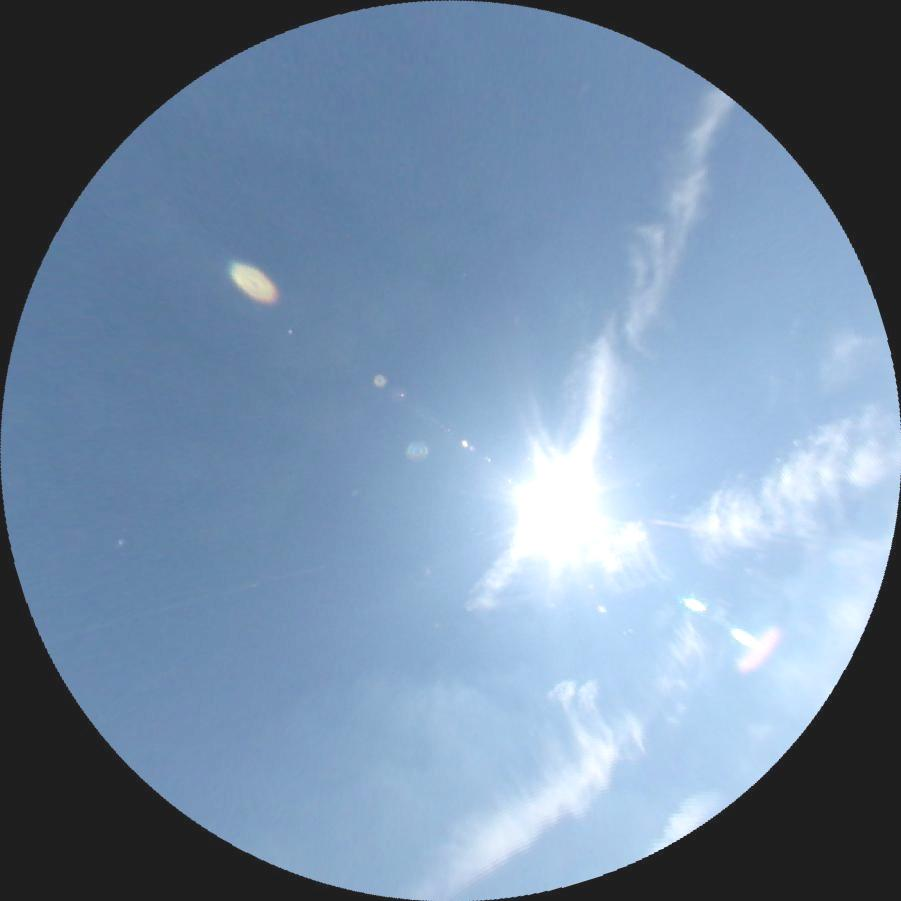contrail veryold: (462, 77, 753, 633)
parasite: (649, 516, 704, 533)
sun: (515, 468, 593, 547)
